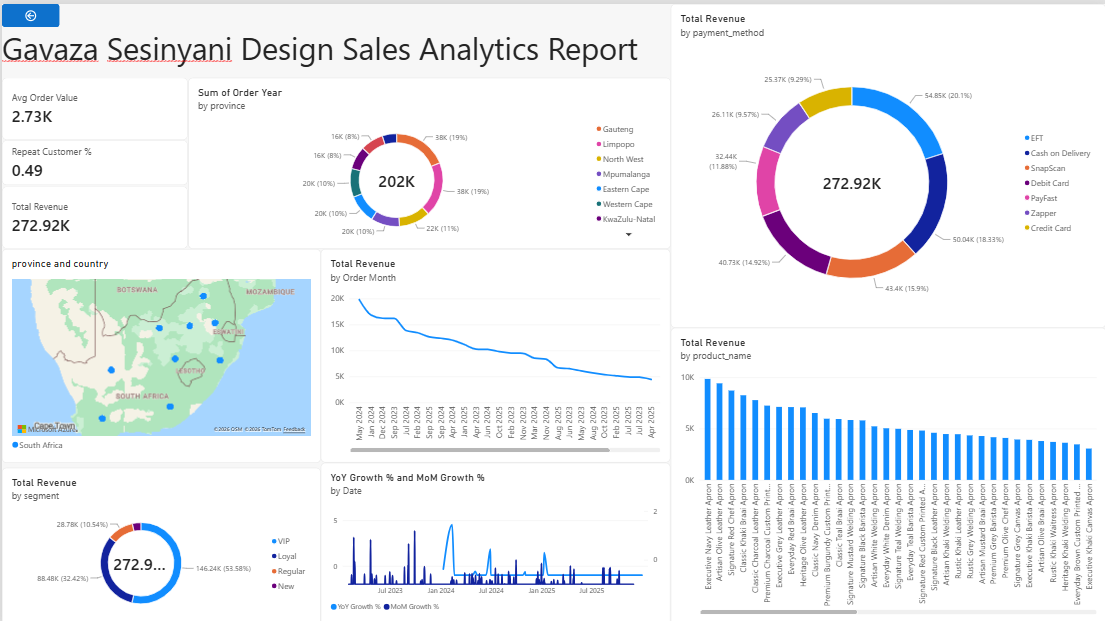

What the dashboard file says about the page in this screenshot:
{"tool":"powerbi","page":{"name":"Page 1","canvas":[1920,1080],"ordinal":0},"visuals":[{"type":"actionButton","box":[0,0,100,40],"z":0},{"type":"cardVisual","fields":{"Data":["orders.Total Revenue"]},"box":[0,317.4,323.9,108.7],"z":2000},{"type":"lineChart","fields":{"Category":["orders.Order Month"],"Y":["orders.Total Revenue"]},"box":[555.3,426.3,607.9,371.1],"z":3000},{"type":"columnChart","fields":{"Category":["products.product_name"],"Y":["orders.Total Revenue"]},"box":[1163.2,563.2,757.9,515.8],"z":4000},{"type":"donutChart","fields":{"Category":["customers.segment"],"Y":["orders.Total Revenue"]},"box":[0,806,554,274],"z":5000},{"type":"cardVisual","fields":{"Data":["orders.Avg Order Value"]},"box":[0,128.3,323.9,108.7],"z":6000},{"type":"cardVisual","fields":{"Data":["orders.Repeat Customer %"]},"box":[0,237,323.9,78.3],"z":7000},{"type":"lineChart","fields":{"Category":["order_date.Date"],"Y":["orders.YoY Growth %"],"Y2":["orders.MoM Growth %"]},"box":[555.3,797.4,607.9,281.6],"z":8000},{"type":"donutChart","fields":{"Category":["payments.payment_method"],"Y":["orders.Total Revenue"]},"box":[1163,0,756.5,563],"z":9000},{"type":"actionButton","box":[0,0,100,40],"z":10000},{"type":"azureMap","fields":{"Category":["locations.province"],"Series":["locations.country"]},"box":[0,426.1,554.3,371.7],"z":11000},{"type":"donutChart","fields":{"Category":["locations.province"],"Y":["Sum(orders.Order Year)"]},"box":[323.9,128.3,839.1,297.8],"z":11001},{"type":"textbox","box":[0,39.1,1163,89.1],"z":11002}]}

Visuals, with their boxes on the page's 1920x1080 design canvas (x1, y1, x2, y2). These are canvas units, not pixel positions in the 1105x621 screenshot, which may show the page scaled, cropped or inside an application window:
actionButton: {"left": 0, "top": 0, "right": 100, "bottom": 40}
cardVisual - orders.Total Revenue: {"left": 0, "top": 317, "right": 324, "bottom": 426}
lineChart - orders.Order Month x orders.Total Revenue: {"left": 555, "top": 426, "right": 1163, "bottom": 797}
columnChart - products.product_name x orders.Total Revenue: {"left": 1163, "top": 563, "right": 1921, "bottom": 1079}
donutChart - customers.segment x orders.Total Revenue: {"left": 0, "top": 806, "right": 554, "bottom": 1080}
cardVisual - orders.Avg Order Value: {"left": 0, "top": 128, "right": 324, "bottom": 237}
cardVisual - orders.Repeat Customer %: {"left": 0, "top": 237, "right": 324, "bottom": 315}
lineChart - order_date.Date x orders.YoY Growth %: {"left": 555, "top": 797, "right": 1163, "bottom": 1079}
donutChart - payments.payment_method x orders.Total Revenue: {"left": 1163, "top": 0, "right": 1920, "bottom": 563}
actionButton: {"left": 0, "top": 0, "right": 100, "bottom": 40}
azureMap - locations.province x locations.country: {"left": 0, "top": 426, "right": 554, "bottom": 798}
donutChart - locations.province x Sum(orders.Order Year): {"left": 324, "top": 128, "right": 1163, "bottom": 426}
textbox: {"left": 0, "top": 39, "right": 1163, "bottom": 128}
